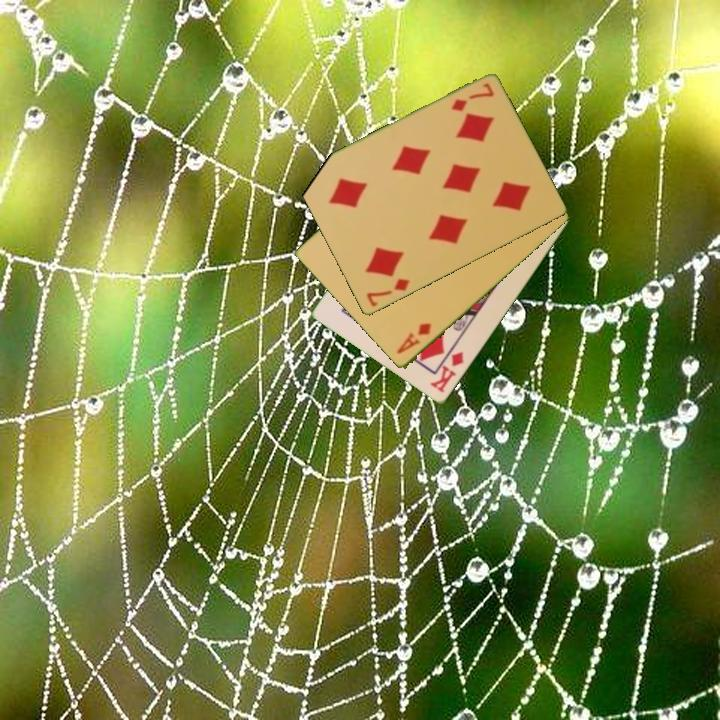7d: (447, 79, 497, 115), (363, 275, 413, 310)
Ad: (393, 319, 434, 357)
Kd: (427, 348, 467, 396)
